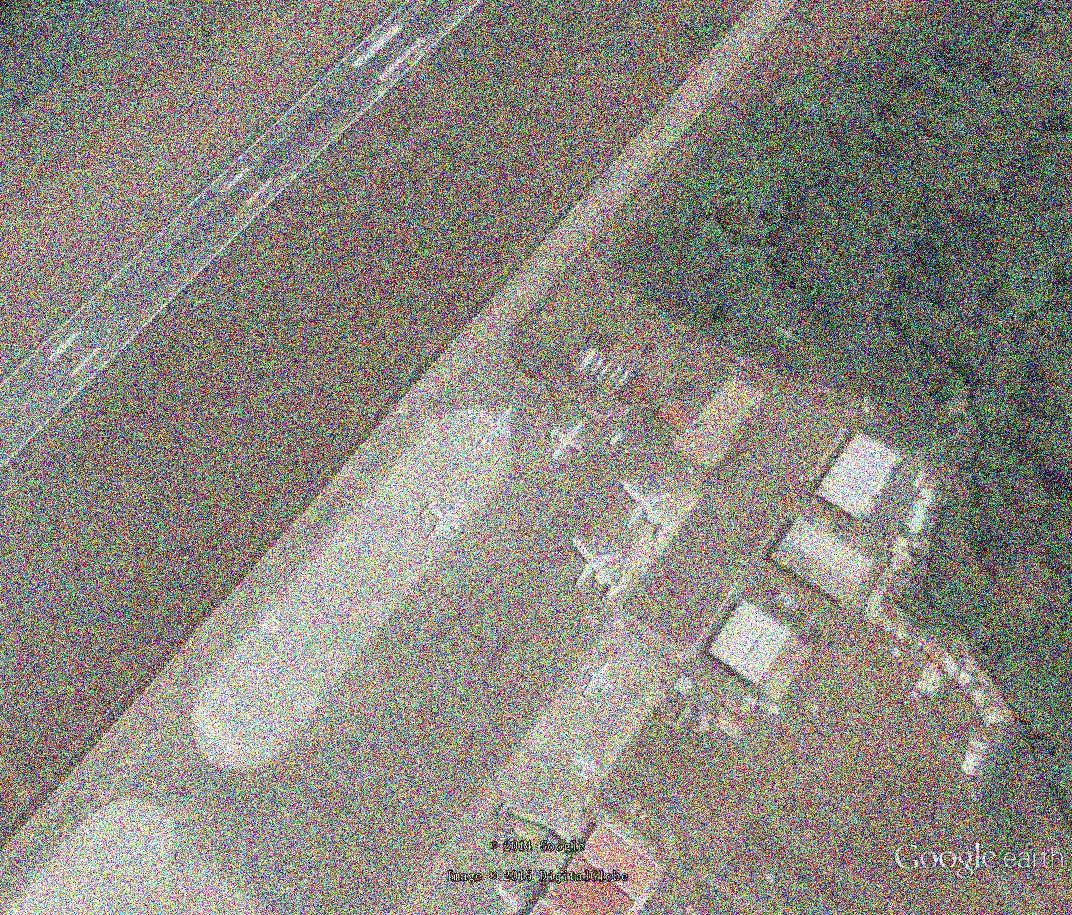aircraft: (567, 528, 628, 604), (618, 475, 679, 546), (418, 496, 472, 546), (466, 405, 523, 450), (540, 418, 589, 465), (580, 658, 625, 700), (570, 750, 601, 783)
